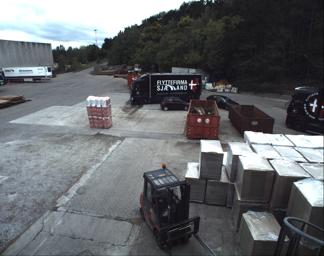rockwool_batts: (85, 94, 113, 129)
